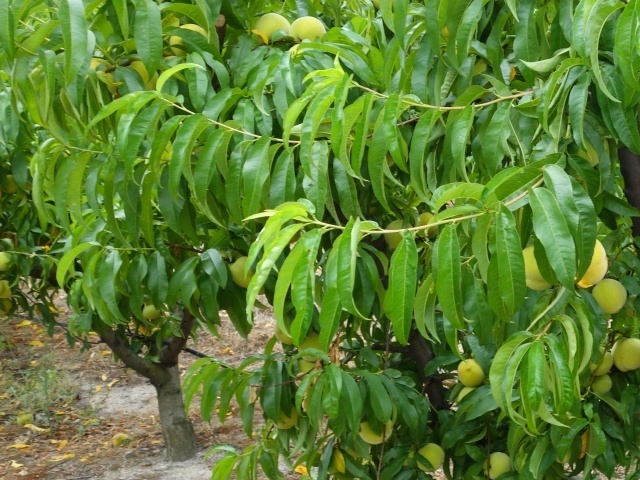peach: (569, 234, 611, 296), (515, 241, 556, 296), (166, 21, 213, 63), (590, 274, 631, 318), (352, 410, 397, 449), (251, 11, 292, 51), (283, 14, 328, 49), (585, 342, 619, 380), (413, 440, 449, 475), (224, 255, 258, 292), (611, 332, 640, 375), (381, 216, 416, 251), (454, 354, 486, 392), (479, 447, 515, 479), (296, 331, 327, 368), (270, 401, 303, 433), (270, 318, 296, 349), (139, 298, 167, 326), (452, 381, 481, 405)
